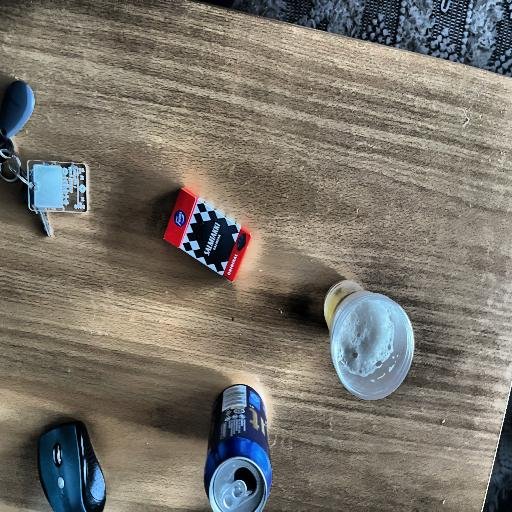koti: (198, 362, 284, 512)
